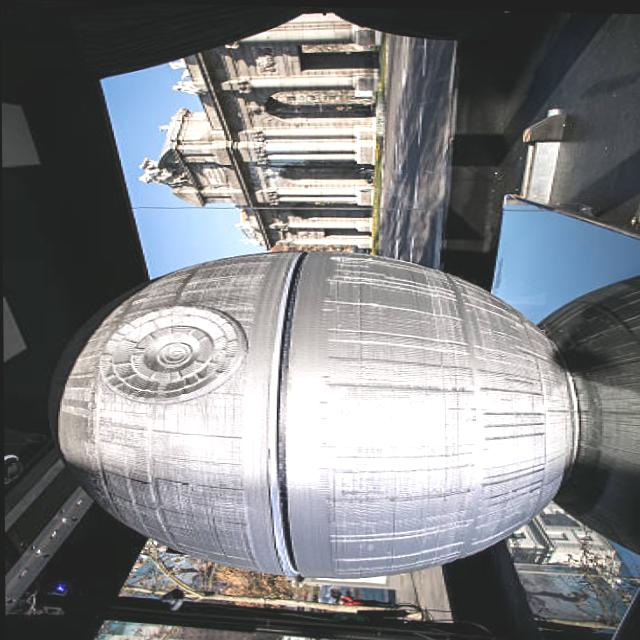deathStar: (53, 241, 582, 590)
